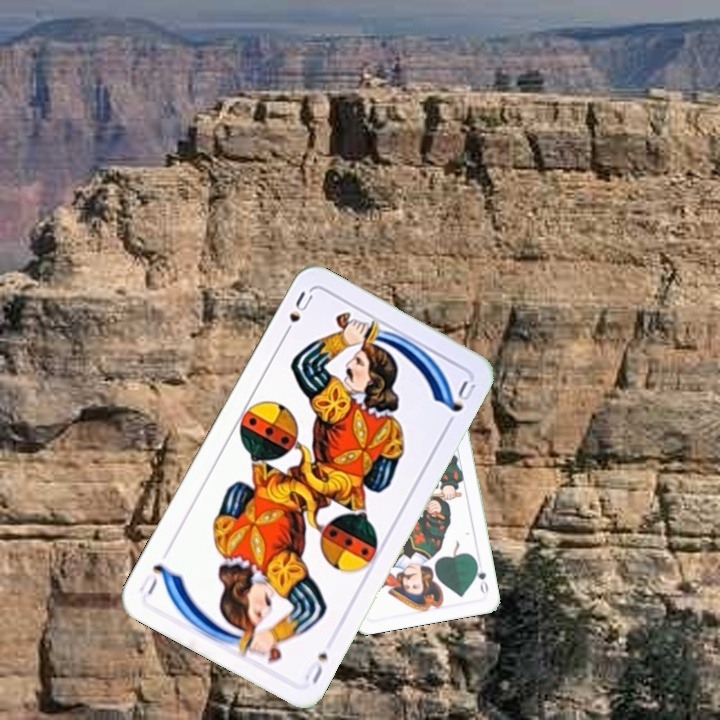GO: (471, 558, 491, 596)
SU: (279, 287, 316, 341), (300, 648, 331, 686)
